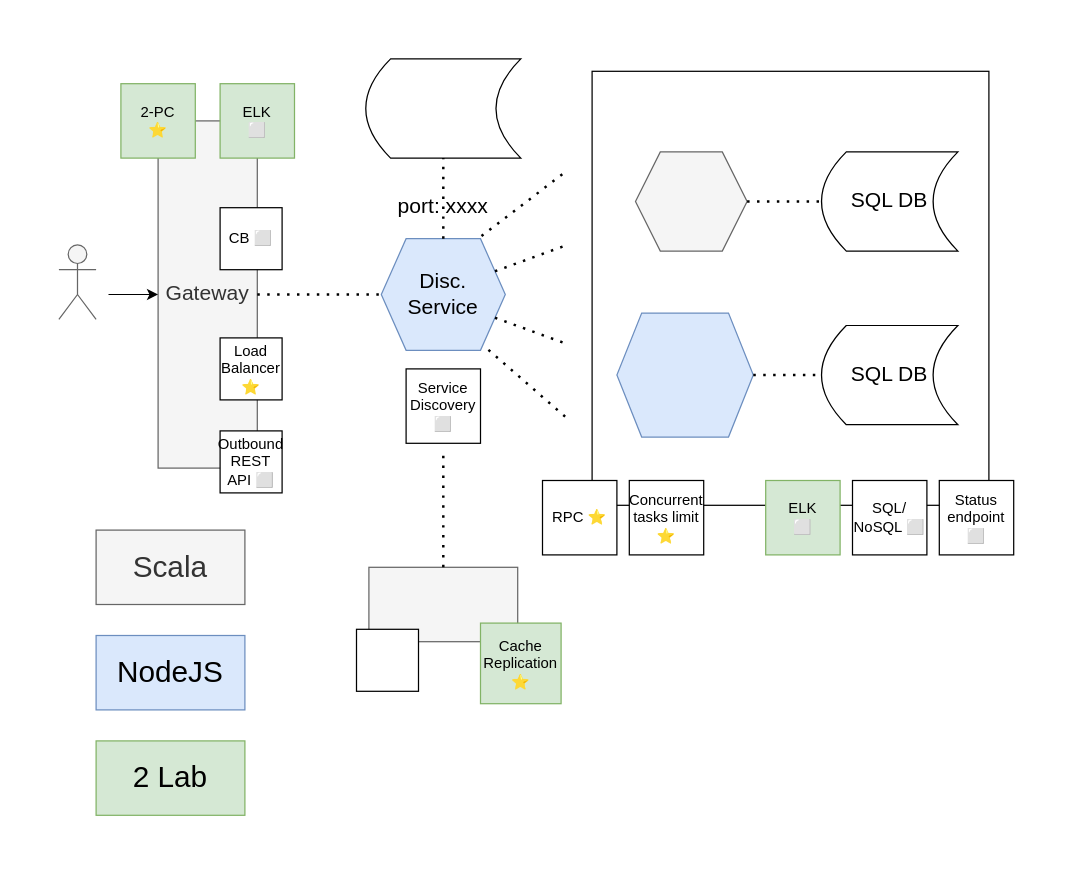
Image size: 1068x873. Some labels were removed from this diagram. The shapes that lost their labels are listed below. From the top down, each one's centre as x and y in pixels, then its label:
At [443,108]: "NoSQL DB".
At [690,201]: "Auth. Service".
At [77,281]: "Client".
At [684,374]: "Profile / Post Service".
At [443,604]: "Cache".
At [386,659]: "Querry ⭐".
